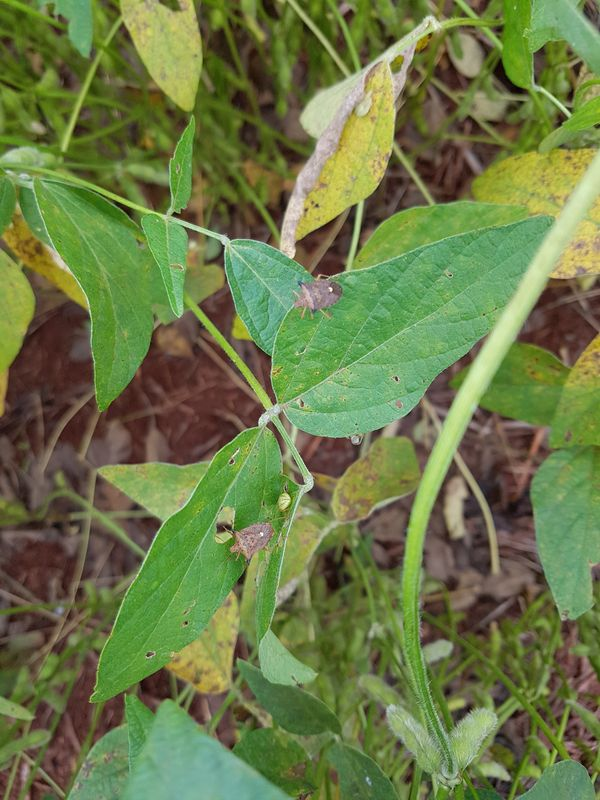Euschistus_heros_adulto: (280, 267, 349, 331), (213, 515, 278, 569)
